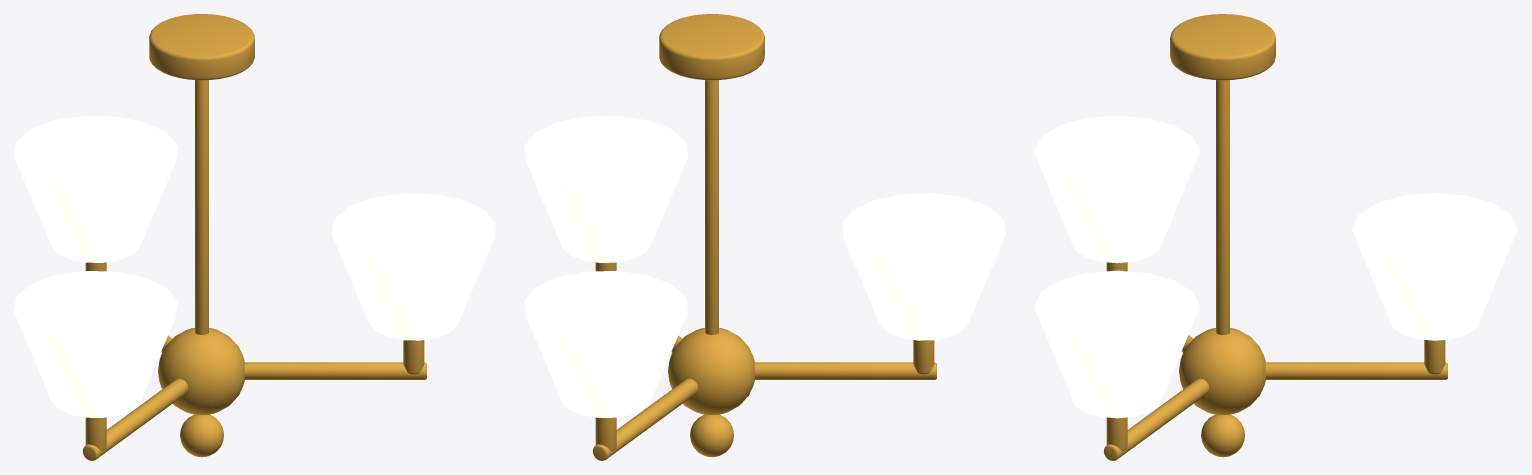
The model's file is chandelier.glb.
3 renders of one model, left to right at view 1: azimuth 30°, elevation 25°; view 2: azimuth 150°, elevation 25°; view 3: azimuth 270°, elevation 25°, orthographic.
Parts seen in each view (by area): view 1: chandelier; view 2: chandelier; view 3: chandelier.
Boxes of the visible parts, <box> form: chandelier: <box>14,14,495,460</box>; chandelier: <box>524,14,1005,460</box>; chandelier: <box>1034,14,1517,460</box>.
Bounding box in the file's own units: 0.6032 × 0.525 × 0.5475.
